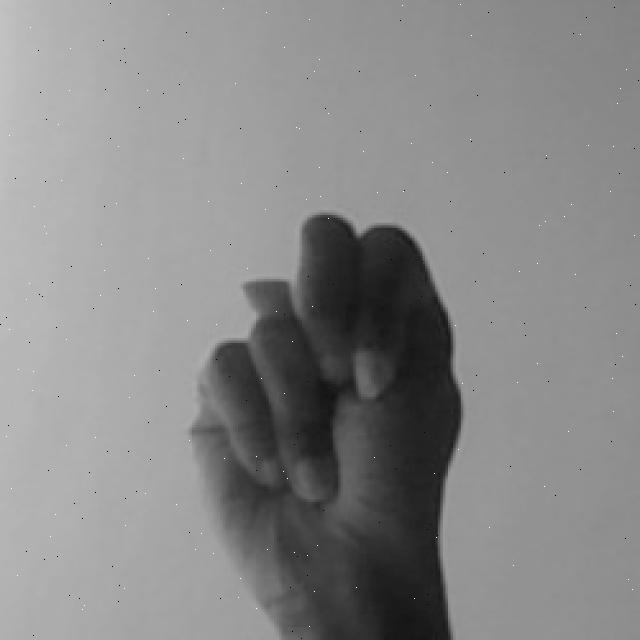N: (172, 209, 470, 640)
